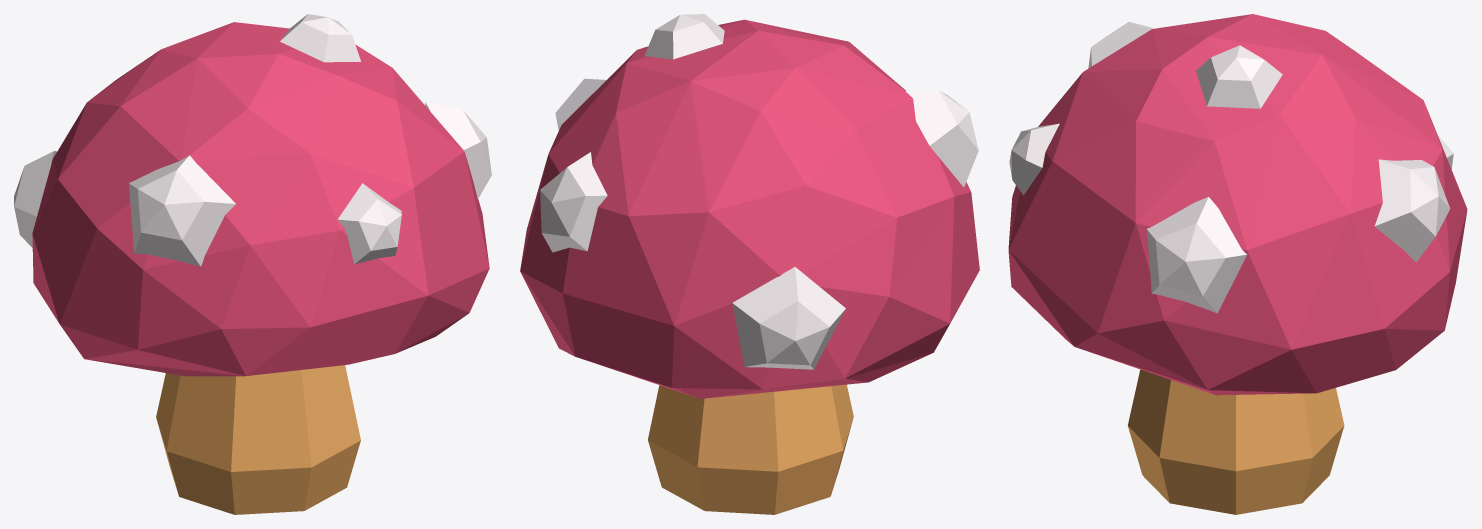
Rendered from mushroom.fbx.
3 views of the same model, side by side, from view 1: azimuth 30°, elevation 25°; view 2: azimuth 150°, elevation 25°; view 3: azimuth 270°, elevation 25° (orthographic). The views are drawn at different scales.
Parts seen in each view (by area): view 1: mushroom; view 2: mushroom; view 3: mushroom.
Boxes of the visible parts, x1,y1,x2,y2 form: mushroom: (14, 14, 491, 514); mushroom: (520, 14, 979, 514); mushroom: (1008, 14, 1467, 514).
Size of the model in its own units: 47.75 by 49.97 by 45.93.
